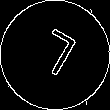L_SW: (29, 25, 81, 85)
